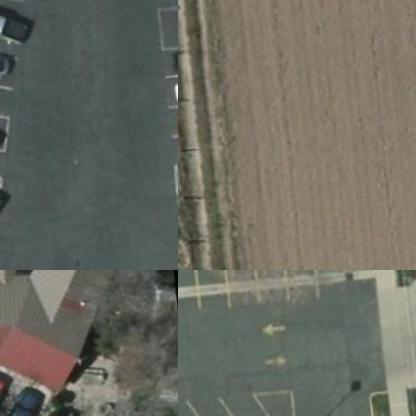car: (0, 380, 54, 415), (0, 0, 37, 44), (0, 160, 22, 221), (0, 35, 18, 87)
